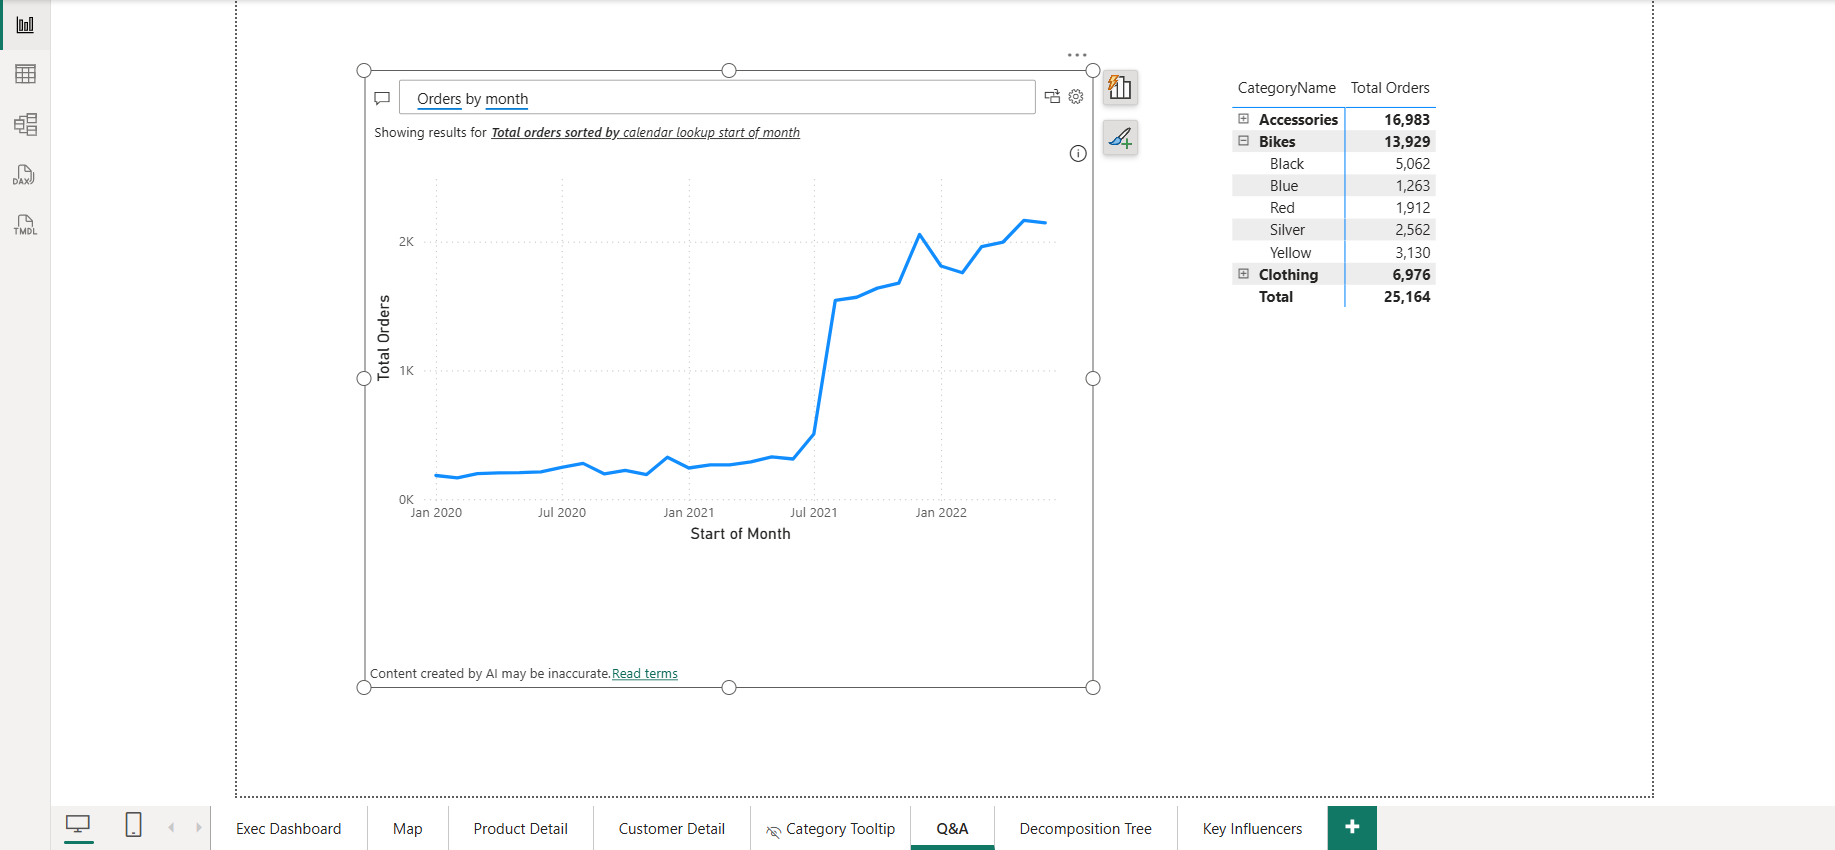

This screenshot's page, from the dashboard's own definition file:
{"tool":"powerbi","page":{"name":"Q&A","canvas":[1280,720],"ordinal":5},"visuals":[{"type":"qnaVisual","box":[115.3,63.3,659,558.4],"z":0},{"type":"pivotTable","fields":{"Rows":["Product Categories Lookup.CategoryName","Product Lookup.ProductColor"],"Values":["Measure Table.Total Orders"]},"box":[895.2,63.3,309.7,360.6],"z":1000}]}

Visuals, with their boxes on the page's 1280x720 design canvas (x1, y1, x2, y2). These are canvas units, not pixel positions in the 1835x850 screenshot, which may show the page scaled, cropped or inside an application window:
qnaVisual: region(115, 63, 774, 622)
pivotTable - Product Categories Lookup.CategoryName x Product Lookup.ProductColor: region(895, 63, 1205, 424)
